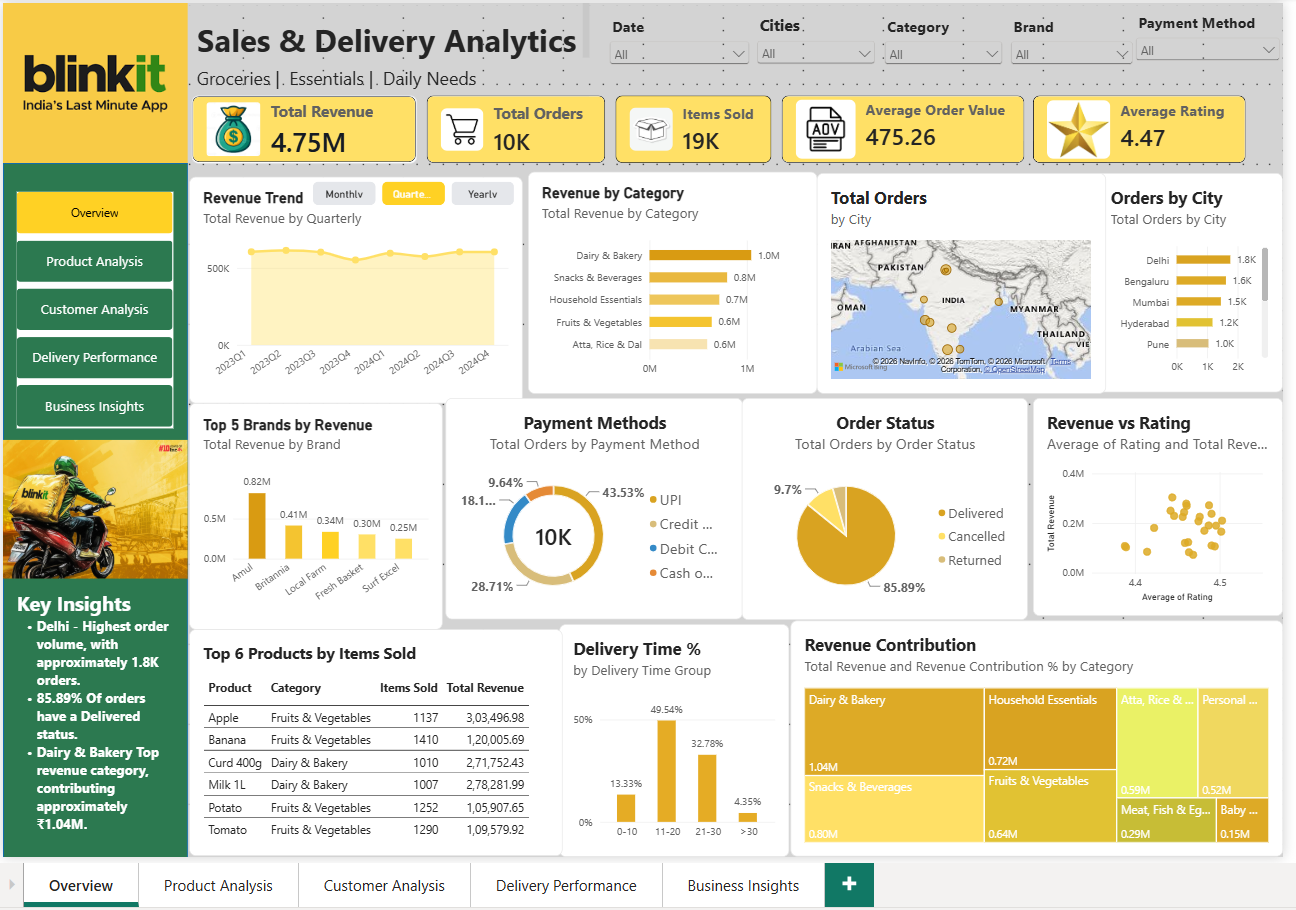

What the dashboard file says about the page in this screenshot:
{"tool":"powerbi","page":{"name":"Overview","canvas":[1536,1024],"ordinal":0},"visuals":[{"type":"image","box":[0,0,221.7,192.1],"z":0},{"type":"shape","box":[0,192.1,221.7,888.3],"z":1000},{"type":"image","box":[0,452.2,221.7,311.9],"z":2000},{"type":"pageNavigator","box":[16.3,226.1,187.7,283.8],"z":3000},{"type":"textbox","box":[232.1,0,471.5,75.4],"z":4000},{"type":"textbox","box":[372,192,804,138],"z":5000},{"type":"textbox","box":[372,330,804,74],"z":6000},{"type":"textbox","box":[232.1,75.4,818.8,35.5],"z":7000},{"type":"slicer","fields":{"Values":["Calendar1.Date"]},"box":[722.8,16.3,177.4,69.4],"z":8000},{"type":"slicer","fields":{"Values":["Cities.City"]},"box":[900.1,13.3,151.6,69.4],"z":9000},{"type":"slicer","fields":{"Values":["Orders.Category"]},"box":[1052.4,16.3,151.6,69.4],"z":10000},{"type":"slicer","fields":{"Values":["Orders.Brand"]},"box":[1204.6,16.3,156.5,72.6],"z":11000},{"type":"slicer","fields":{"Values":["Orders.Payment Method"]},"box":[1353.9,11.8,182.3,64.5],"z":12000},{"type":"cardVisual","fields":{"Data":["Calendar1.Total Revenue"]},"box":[226.1,110.9,270.5,81.3],"z":13000},{"type":"cardVisual","fields":{"Data":["Calendar1.Total Orders"]},"box":[508.5,110.9,214.3,81.3],"z":14000},{"type":"cardVisual","fields":{"Data":["Calendar1.Items Sold"]},"box":[734.6,110.9,187.7,81.3],"z":15000},{"type":"cardVisual","fields":{"Data":["Calendar1.Average Order Value"]},"box":[934.1,110.9,291.2,81.3],"z":16000},{"type":"cardVisual","fields":{"Data":["Calendar1.Average Rating"]},"box":[1235.7,110.9,255.7,81.3],"z":17000},{"type":"cardVisual","fields":{"Data":["Calendar1.Average Delivery Time"]},"box":[1602,112,302,114],"z":18000},{"type":"areaChart","title":"Revenue Trend","fields":{"Category":["Calendar1.Year Quarter"],"Y":["Calendar1.Total Revenue"]},"box":[232.1,202.5,397.6,264.6],"z":19000},{"type":"advancedSlicerVisual","fields":{"Values":["Revenue Time Filter.Revenue Time Filter"]},"box":[372.5,214.3,243.9,28.1],"z":20000},{"type":"clusteredBarChart","title":"Revenue by Category","fields":{"Category":["Orders.Category"],"Y":["Calendar1.Total Revenue"]},"box":[629.7,202.5,347.3,266.1],"z":21000},{"type":"clusteredColumnChart","title":"Top 5 Brands by Revenue","fields":{"Category":["Orders.Brand"],"Y":["Calendar1.Total Revenue"]},"box":[224,592,304.5,265.7],"z":22000},{"type":"donutChart","title":"Payment Methods","fields":{"Category":["Orders.Payment Method"],"Y":["Calendar1.Total Orders"]},"box":[530.6,474.5,356.7,265.7],"z":23000},{"type":"pieChart","title":"Order Status","fields":{"Category":["Orders.Order Status"],"Y":["Calendar1.Total Orders"]},"box":[886.8,474.5,342.9,266.1],"z":24000},{"type":"clusteredColumnChart","title":"Delivery Time Analysis","fields":{"Category":["Orders.Delivery Time Group"],"Y":["Orders.Delivery Time %"]},"box":[1550.9,558.5,352.8,324.5],"z":25000},{"type":"scatterChart","title":" Revenue vs Rating","fields":{"Y":["Calendar1.Total Revenue"],"X":["Orders.Rating"],"Category":["Products.Product ID"]},"box":[1235.7,474.5,300,261.6],"z":26000},{"type":"clusteredBarChart","title":"Orders by City","fields":{"Category":["Cities.City"],"Y":["Calendar1.Total Orders"]},"box":[1312.5,204,223.2,263.1],"z":27000},{"type":"map","fields":{"Category":["Orders.City"],"Size":["Calendar1.Total Orders"]},"box":[977,204,347.3,264.6],"z":28000},{"type":"clusteredColumnChart","fields":{"Category":["Orders.Delivery Time Group"],"Y":["Orders.Delivery Time %"]},"box":[668.1,744.9,276.4,279.4],"z":29000},{"type":"tableEx","title":"Top 6 Products by Items Sold","fields":{"Values":["Orders.Product","Orders.Category","Calendar1.Items Sold","Calendar1.Total Revenue"]},"box":[226.9,744.8,441.8,268.7],"z":30000},{"type":"treemap","title":"Revenue Contribution","fields":{"Group":["Orders.Category"],"Values":["Calendar1.Total Revenue"]},"box":[944.8,740.3,591,283.6],"z":31000},{"type":"textbox","box":[16,704,192,304],"z":33000}]}

Visuals, with their boxes on the page's 1536x1024 design canvas (x1, y1, x2, y2). These are canvas units, not pixel positions in the 1296x910 screenshot, which may show the page scaled, cropped or inside an application window:
image: locate(0, 0, 222, 192)
shape: locate(0, 192, 222, 1080)
image: locate(0, 452, 222, 764)
pageNavigator: locate(16, 226, 204, 510)
textbox: locate(232, 0, 704, 75)
textbox: locate(372, 192, 1176, 330)
textbox: locate(372, 330, 1176, 404)
textbox: locate(232, 75, 1051, 111)
slicer - Calendar1.Date: locate(723, 16, 900, 86)
slicer - Cities.City: locate(900, 13, 1052, 83)
slicer - Orders.Category: locate(1052, 16, 1204, 86)
slicer - Orders.Brand: locate(1205, 16, 1361, 89)
slicer - Orders.Payment Method: locate(1354, 12, 1536, 76)
cardVisual - Calendar1.Total Revenue: locate(226, 111, 497, 192)
cardVisual - Calendar1.Total Orders: locate(508, 111, 723, 192)
cardVisual - Calendar1.Items Sold: locate(735, 111, 922, 192)
cardVisual - Calendar1.Average Order Value: locate(934, 111, 1225, 192)
cardVisual - Calendar1.Average Rating: locate(1236, 111, 1491, 192)
cardVisual - Calendar1.Average Delivery Time: locate(1602, 112, 1904, 226)
"Revenue Trend" areaChart: locate(232, 202, 630, 467)
advancedSlicerVisual - Revenue Time Filter.Revenue Time Filter: locate(372, 214, 616, 242)
"Revenue by Category" clusteredBarChart: locate(630, 202, 977, 469)
"Top 5 Brands by Revenue" clusteredColumnChart: locate(224, 592, 528, 858)
"Payment Methods" donutChart: locate(531, 474, 887, 740)
"Order Status" pieChart: locate(887, 474, 1230, 741)
"Delivery Time Analysis" clusteredColumnChart: locate(1551, 558, 1904, 883)
" Revenue vs Rating" scatterChart: locate(1236, 474, 1536, 736)
"Orders by City" clusteredBarChart: locate(1312, 204, 1536, 467)
map - Orders.City x Calendar1.Total Orders: locate(977, 204, 1324, 469)
clusteredColumnChart - Orders.Delivery Time Group x Orders.Delivery Time %: locate(668, 745, 944, 1024)
"Top 6 Products by Items Sold" tableEx: locate(227, 745, 669, 1014)
"Revenue Contribution" treemap: locate(945, 740, 1536, 1024)
textbox: locate(16, 704, 208, 1008)
